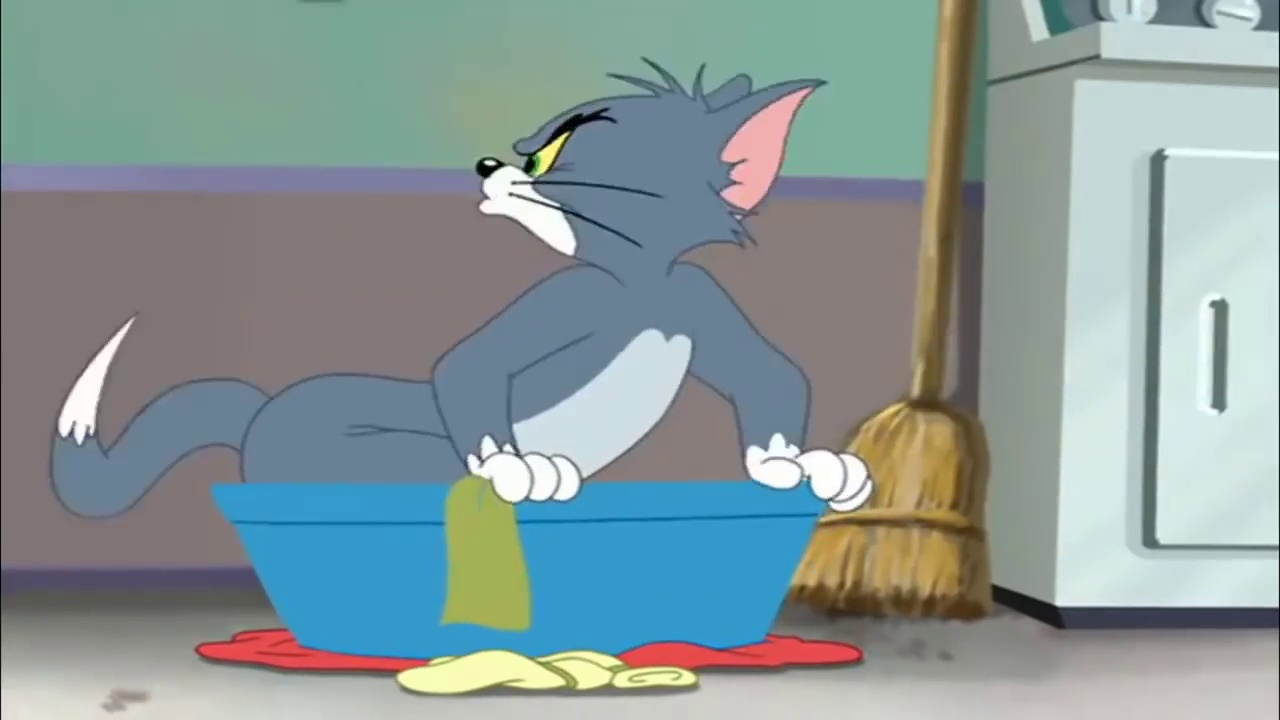face: (477, 104, 670, 262)
